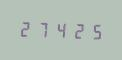five: (86, 20, 102, 41)
four: (52, 19, 68, 40)
seven: (35, 19, 51, 39)
two: (18, 18, 34, 39), (69, 20, 85, 40)
